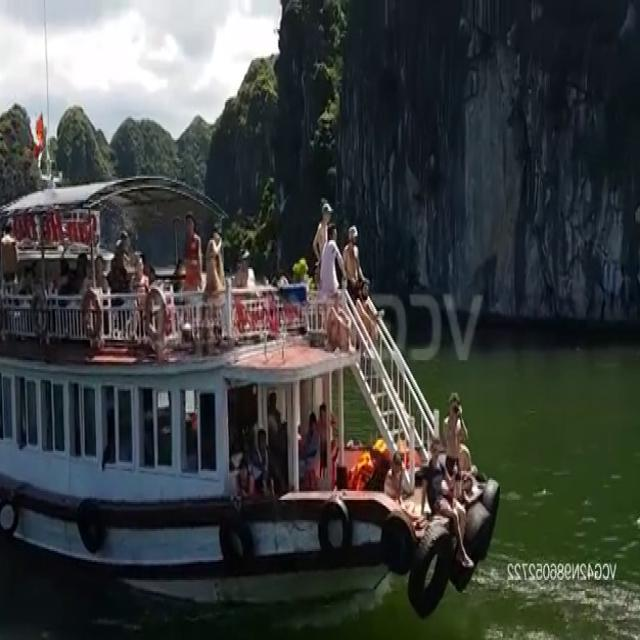passenger ship: (0, 165, 498, 588)
